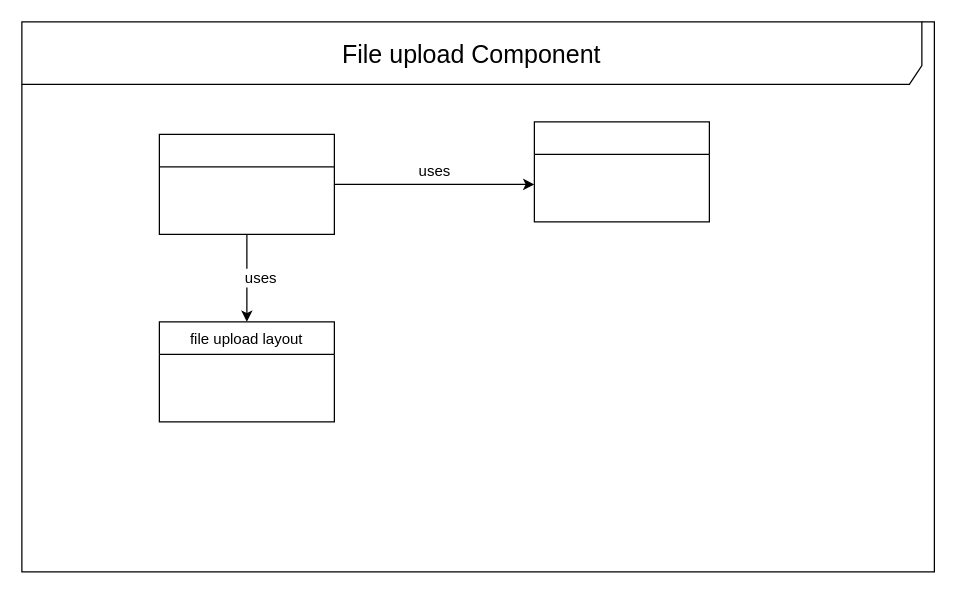
Image size: 956x594. Some labels were removed from this diagram. Each missing label, with the centre of its shape:
file upload Activity: the point at 246,183
upload service: the point at 621,171
